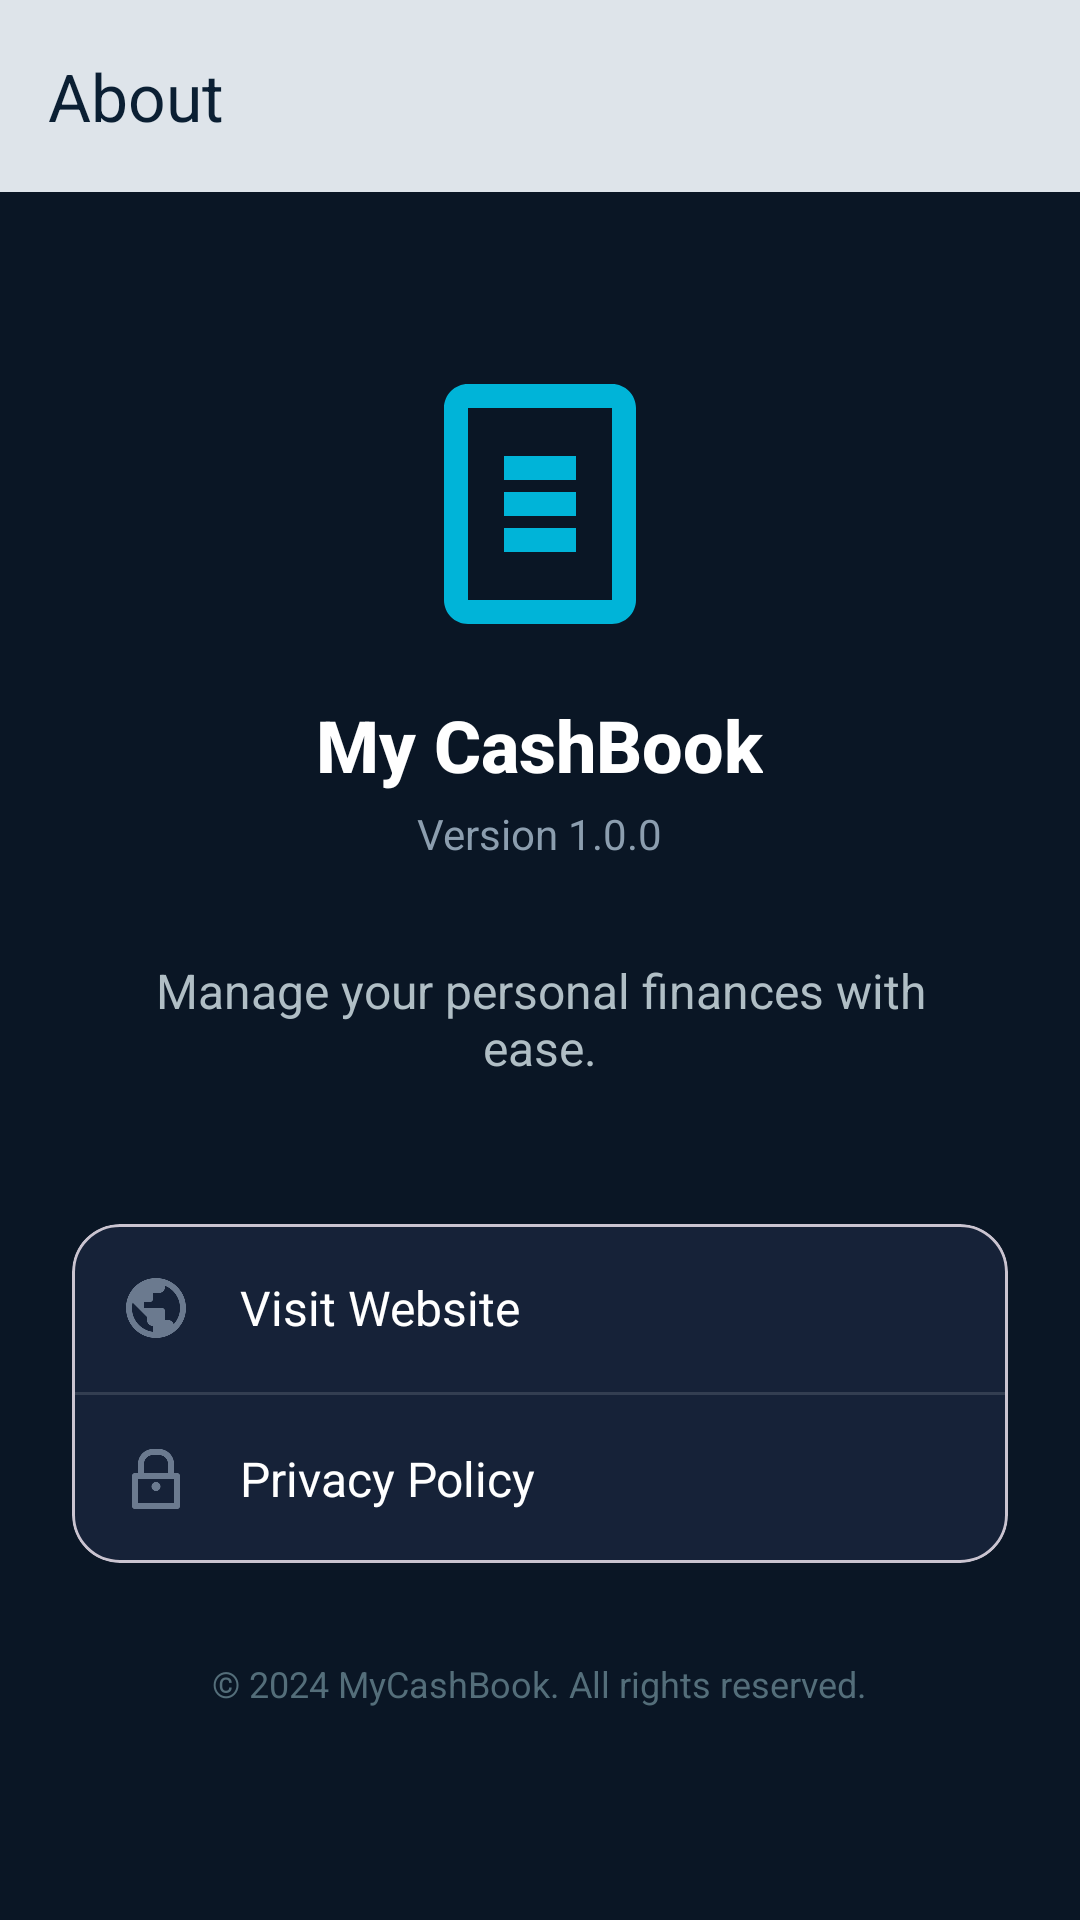

Icons on this 1080 × 1920 Android screen, each with the point to tap as point (x, y):
globe: point (156, 1308)
lock: point (156, 1479)
